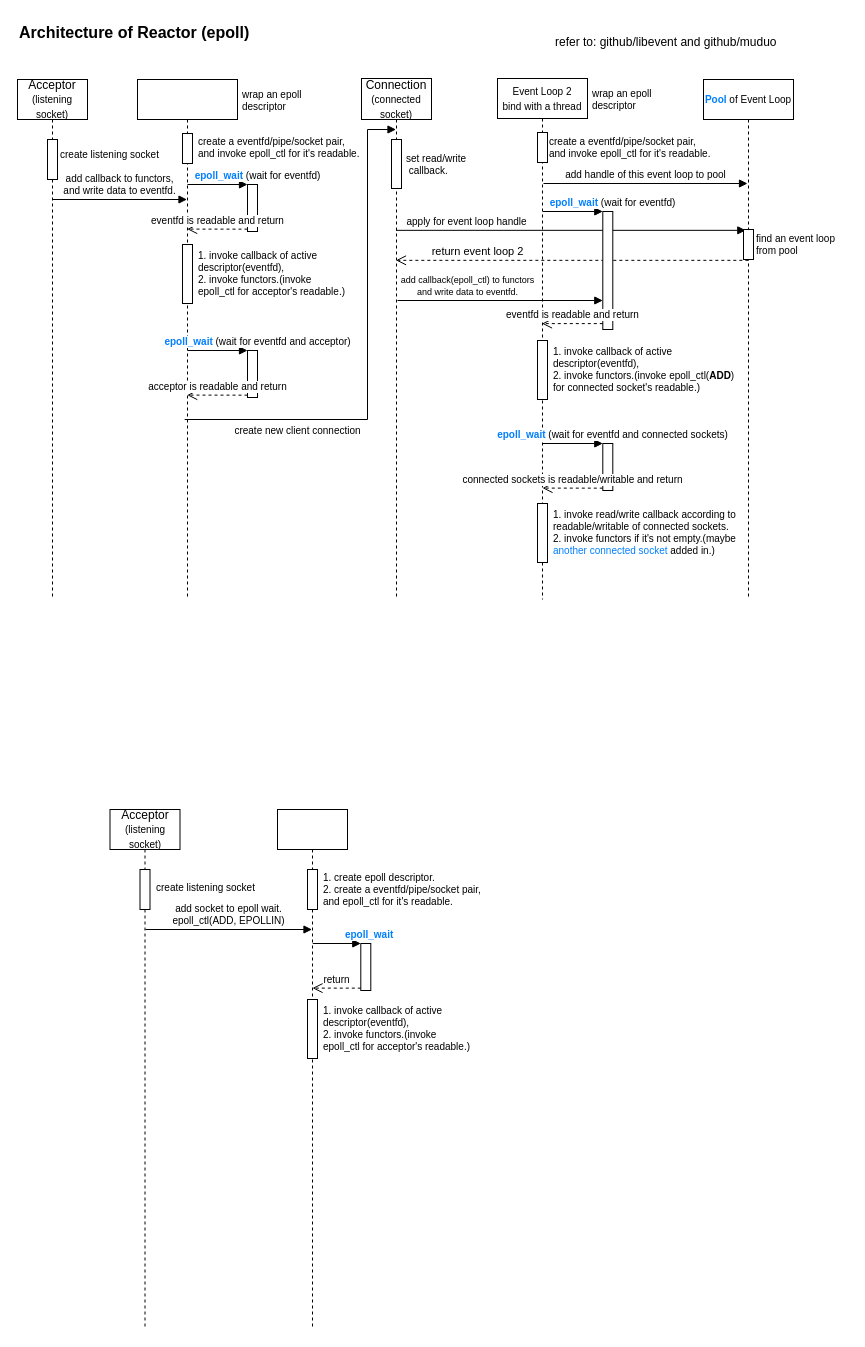
Some shapes in this 865 by 1347 pixel diagram are drawn without their labels. The centre of each missing label's shape, as x and y in pixels:
Event Loop (epoll_wait): point 312,1069
Event Loop 1 bind with main thread: point 187,339
